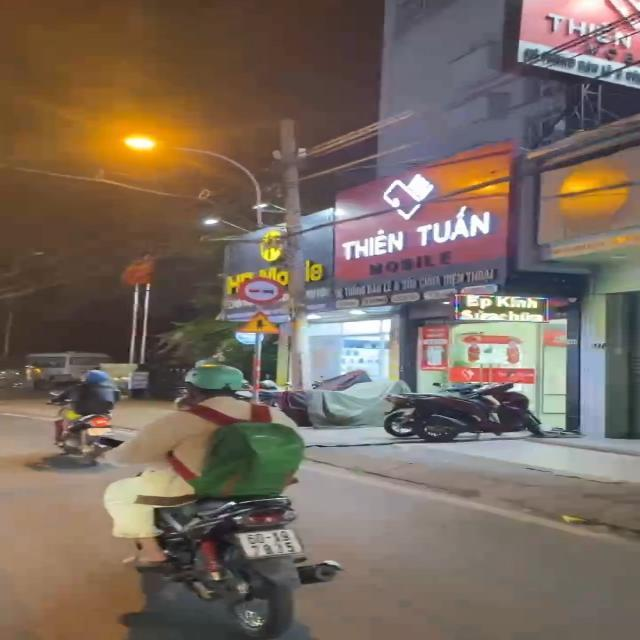125-cam-vuot: (234, 276, 286, 305)
207-giao-nhau-voi-duong-khong-uu-tien: (234, 311, 284, 336)
